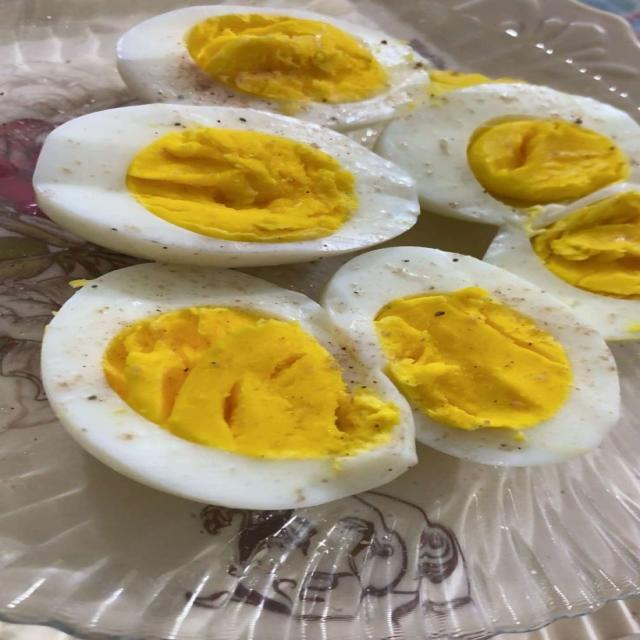eggs: (26, 14, 640, 521)
